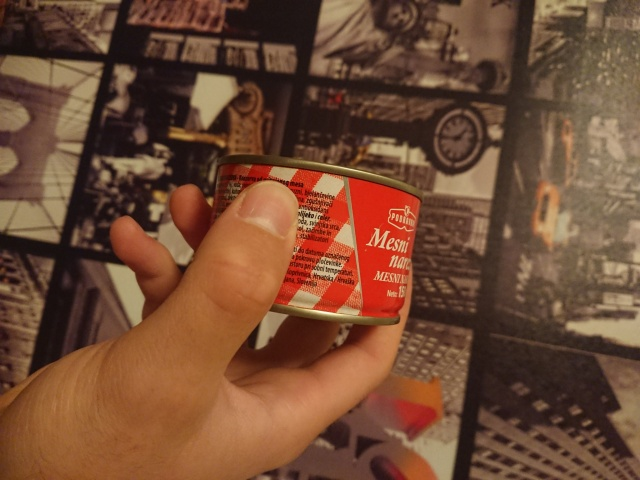Podravka Luncheon Meat 150g: (199, 151, 428, 329)
